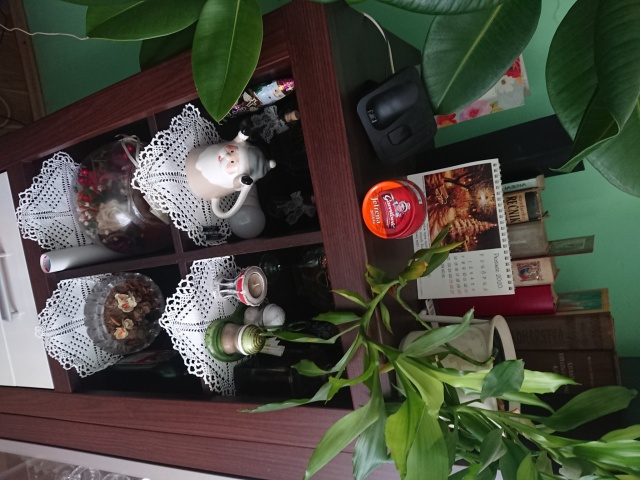Gavrilovic Pork Liver Pate 100g: (359, 176, 428, 240)
